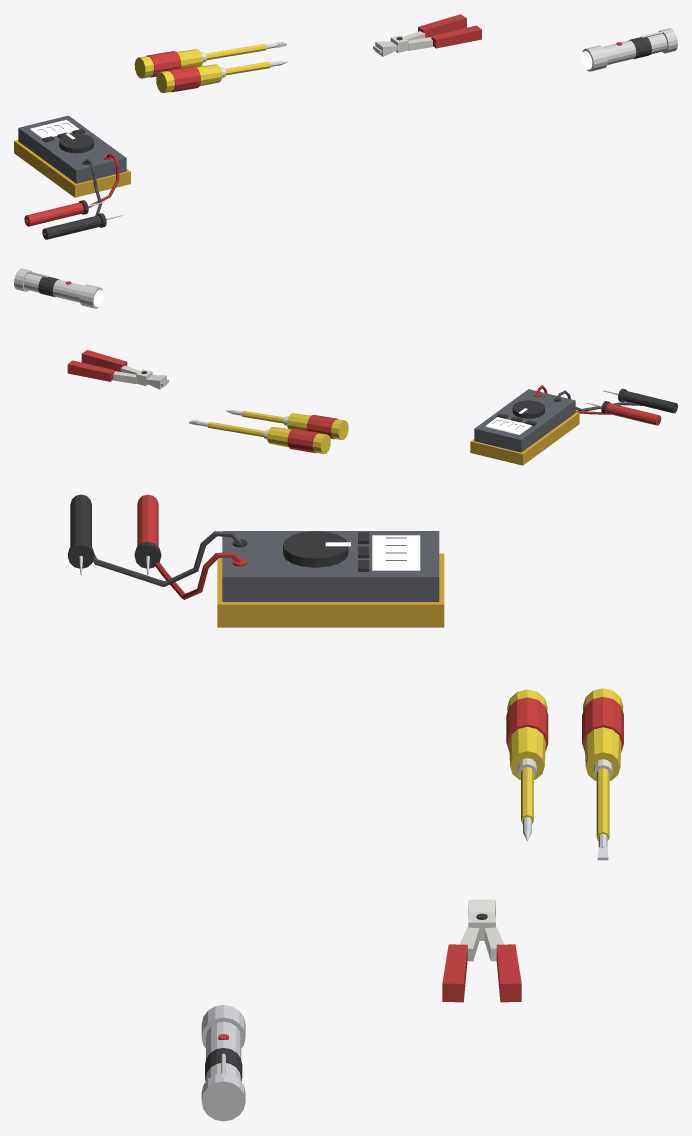
File: tools.glb
3 renders of one model, top to bottom at view 1: azimuth 30°, elevation 25°; view 2: azimuth 150°, elevation 25°; view 3: azimuth 270°, elevation 25°, orthographic. The views are drawn at different scales.
Parts seen in each view (by area): view 1: DMM_Body, DMM_Boot, Trc_Barrel, SdP_Handle, SdF_Handle, Cut_GripB, DMM_Probe_Blk, DMM_Probe_Red, Cut_GripA, SdP_Grip, DMM_Dial, SdF_Grip (+3 smaller); view 2: DMM_Body, DMM_Boot, Trc_Barrel, SdF_Handle, SdP_Handle, Cut_GripA, DMM_Probe_Red, DMM_Probe_Blk, Cut_GripB, SdF_Grip, DMM_Dial, DMM_Screen (+3 smaller); view 3: DMM_Body, DMM_Boot, DMM_Dial, DMM_Screen, SdF_Handle, Trc_Tail, SdP_Handle, SdF_Grip, SdP_Grip, Cut_GripB, Cut_GripA, Trc_Barrel (+5 smaller).
Part boxes in pixels (left/top/right/bottom): DMM_Body: left=18, top=115, right=126, bottom=183; DMM_Boot: left=14, top=140, right=130, bottom=197; Trc_Barrel: left=603, top=33, right=667, bottom=64; SdP_Handle: left=156, top=64, right=222, bottom=93; SdF_Handle: left=134, top=49, right=202, bottom=78; Cut_GripB: left=431, top=25, right=481, bottom=48; DMM_Probe_Blk: left=42, top=215, right=101, bottom=239; DMM_Probe_Red: left=24, top=202, right=83, bottom=226; Cut_GripA: left=418, top=14, right=466, bottom=37; SdP_Grip: left=167, top=66, right=200, bottom=92; DMM_Dial: left=59, top=133, right=93, bottom=153; SdF_Grip: left=146, top=51, right=181, bottom=77; DMM_Body: left=474, top=389, right=575, bottom=452; DMM_Boot: left=470, top=412, right=579, bottom=465; Trc_Barrel: left=24, top=273, right=83, bottom=302; SdF_Handle: left=267, top=427, right=330, bottom=453; SdP_Handle: left=287, top=413, right=348, bottom=439; Cut_GripA: left=67, top=360, right=114, bottom=381; DMM_Probe_Red: left=605, top=403, right=661, bottom=425; DMM_Probe_Blk: left=622, top=391, right=677, bottom=413; Cut_GripB: left=81, top=350, right=127, bottom=371; SdF_Grip: left=287, top=428, right=319, bottom=453; DMM_Dial: left=512, top=400, right=544, bottom=418; DMM_Screen: left=485, top=417, right=531, bottom=434; DMM_Body: left=222, top=531, right=439, bottom=601; DMM_Boot: left=217, top=553, right=444, bottom=627; DMM_Dial: left=283, top=531, right=348, bottom=567; DMM_Screen: left=372, top=535, right=420, bottom=570; SdF_Handle: left=583, top=688, right=623, bottom=780; Trc_Tail: left=201, top=1073, right=245, bottom=1121; SdP_Handle: left=507, top=689, right=547, bottom=779; SdF_Grip: left=582, top=697, right=623, bottom=752; SdP_Grip: left=506, top=697, right=548, bottom=751; Cut_GripB: left=442, top=944, right=467, bottom=1002; Cut_GripA: left=496, top=944, right=521, bottom=1002; Trc_Barrel: left=206, top=1021, right=241, bottom=1080.
Size of the model in its own units: 1.14 by 0.0523 by 0.4411.
